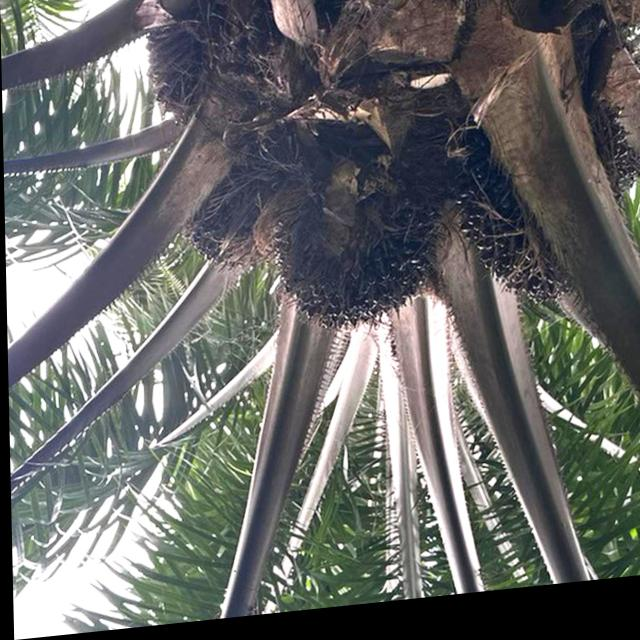unripe: (261, 186, 453, 350)
